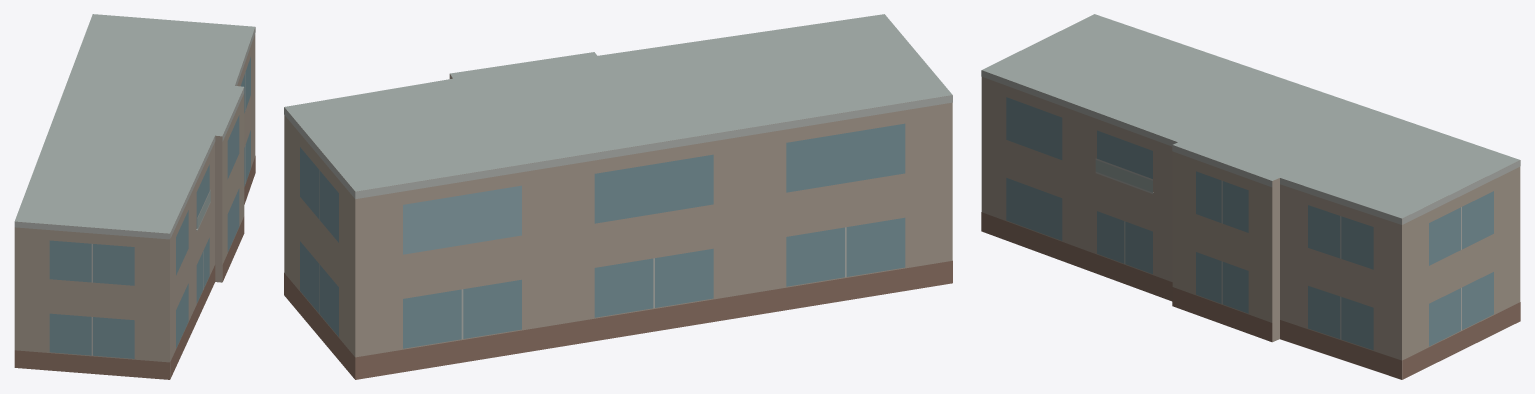
Rendered from survey-upis-32672872.glb.
3 renders of one model, left to right at view 1: azimuth 30°, elevation 25°; view 2: azimuth 150°, elevation 25°; view 3: azimuth 270°, elevation 25°, orthographic. The views are drawn at different scales.
Visible parts, largest first — view 1: survey-upis-32672872.tmp; view 2: survey-upis-32672872.tmp; view 3: survey-upis-32672872.tmp.
Boxes of the visible parts, box(x1,y1,x2,y2) form: survey-upis-32672872.tmp: box(14, 14, 255, 379); survey-upis-32672872.tmp: box(284, 14, 952, 379); survey-upis-32672872.tmp: box(981, 14, 1520, 379).
Size of the model in its own units: 16.61 by 6.1 by 18.48.
